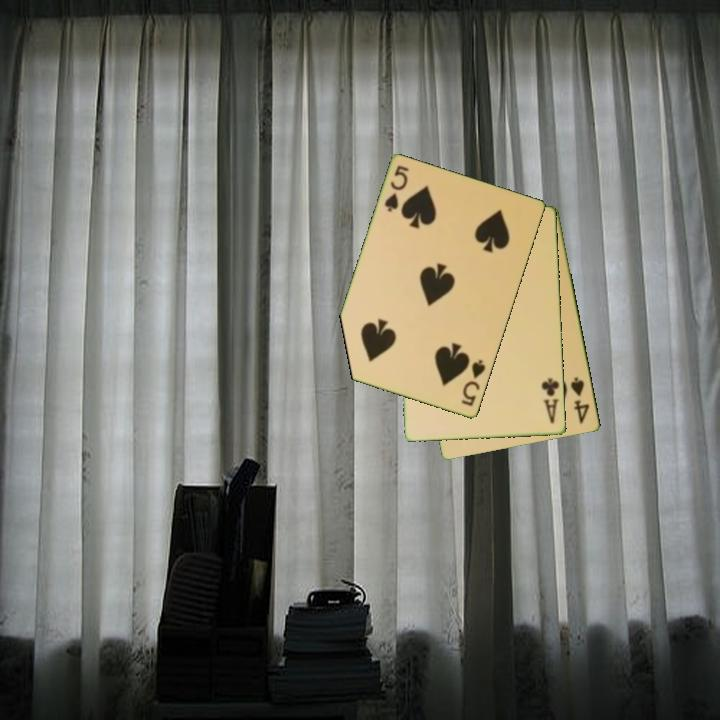4s: (567, 374, 593, 427)
5s: (458, 356, 489, 409), (381, 162, 412, 215)
Ac: (538, 375, 562, 426)
